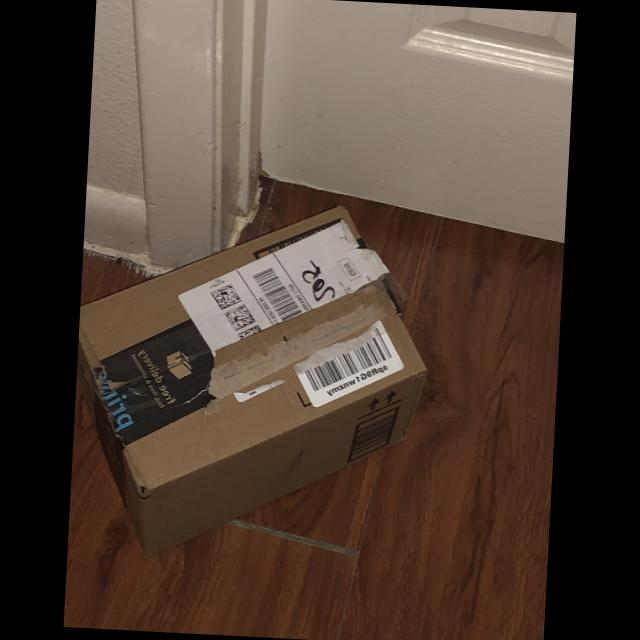box: (66, 188, 436, 575)
